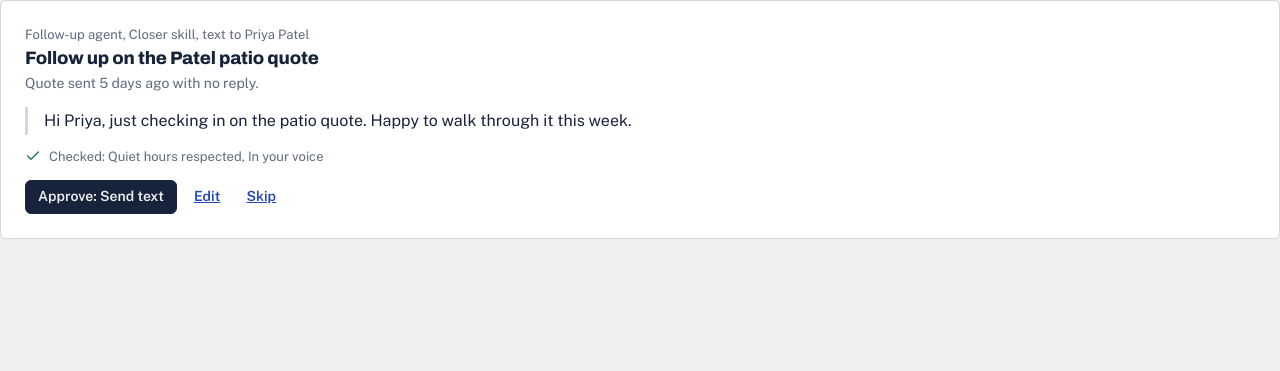
Scenario: AgentCard › drops the edits on Cancel and sends nothing
Click the button "Edit": x=207, y=197 [185,182,229,212]
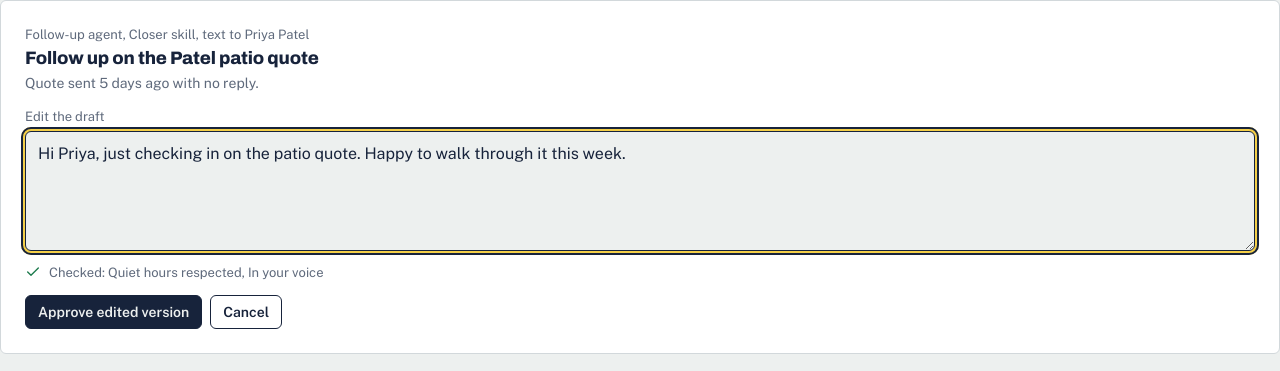
In the text box labelled "Edit the draft": x=640, y=191 [25,131,1255,251], type " P.S."
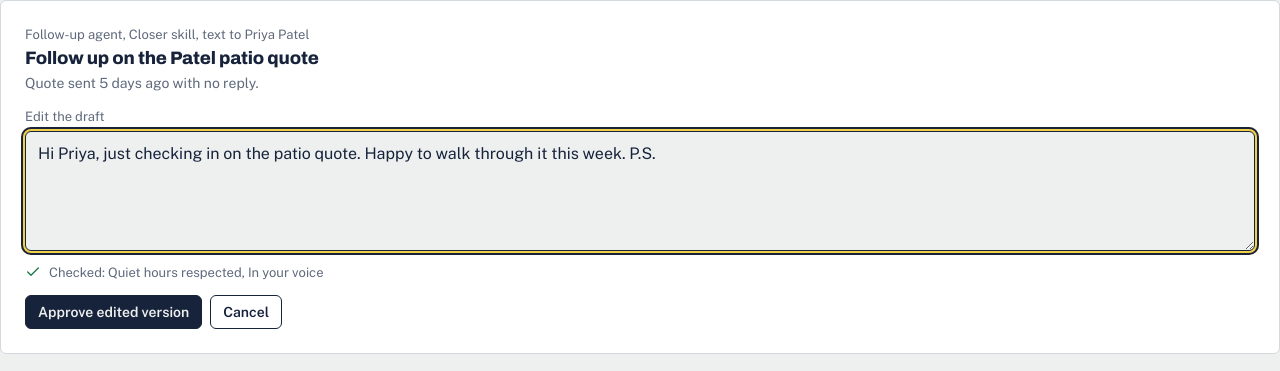
Click the button "Cancel": x=246, y=312 [210,295,282,329]
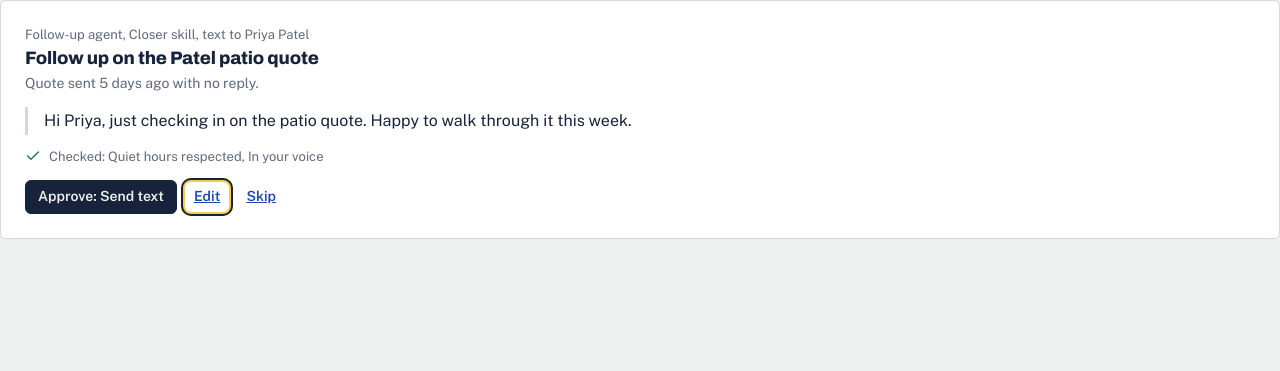
Now the text "Hi Priya, just checking in on the patio quote. Happy to walk through it this week." is shown, box [44,111,632,130]
